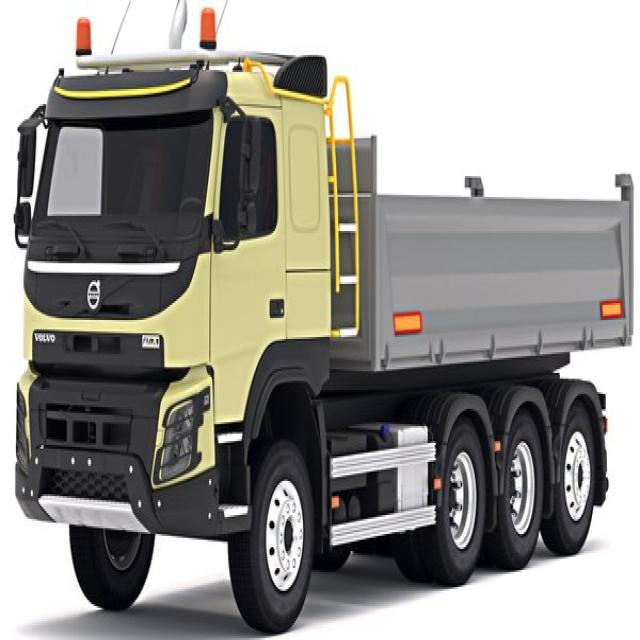dump_truck: (8, 2, 636, 633)
